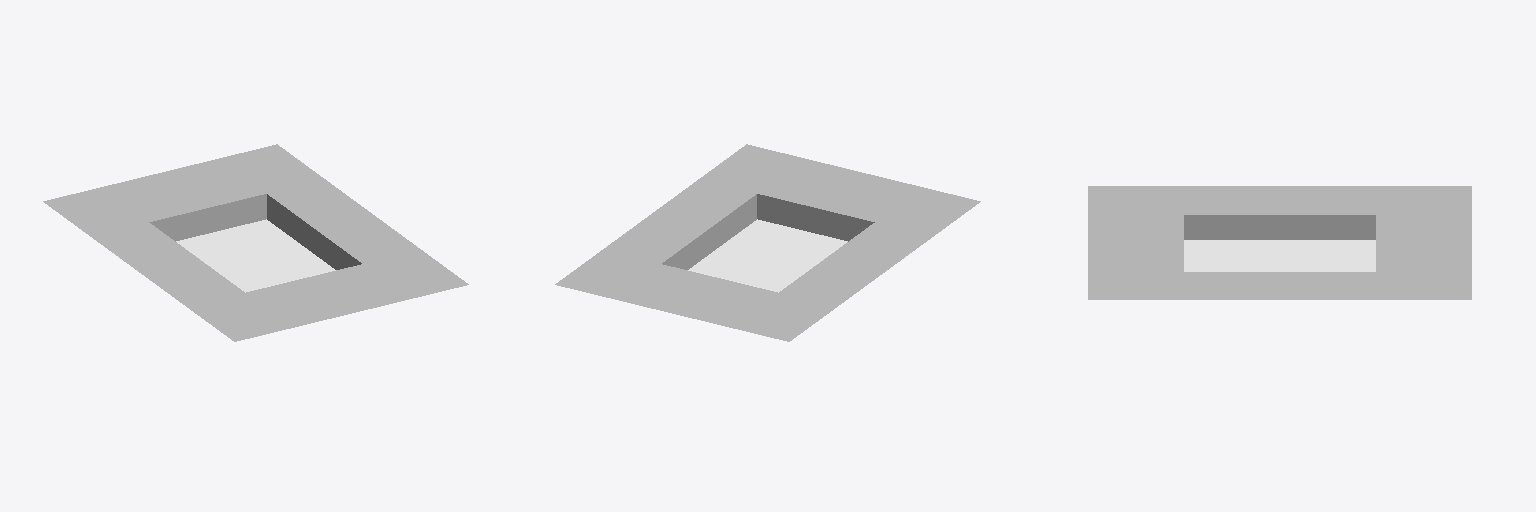
The picture shows the model from 3 angles: view 1: azimuth 30°, elevation 25°; view 2: azimuth 150°, elevation 25°; view 3: azimuth 270°, elevation 25°; orthographic projection.
Visible parts, largest first — view 1: Plane, Plane.002, Plane.001; view 2: Plane, Plane.002, Plane.001; view 3: Plane, Plane.002, Plane.001.
Boxes of the visible parts, x1,y1,x2,y2 form: Plane: [43, 144, 468, 341]; Plane.002: [176, 219, 335, 292]; Plane.001: [149, 194, 361, 269]; Plane: [555, 144, 980, 341]; Plane.002: [688, 219, 847, 292]; Plane.001: [662, 194, 874, 269]; Plane: [1088, 186, 1471, 299]; Plane.002: [1184, 240, 1375, 271]; Plane.001: [1184, 215, 1375, 239].
Size of the model in its own units: 24 by 2.5 by 34.